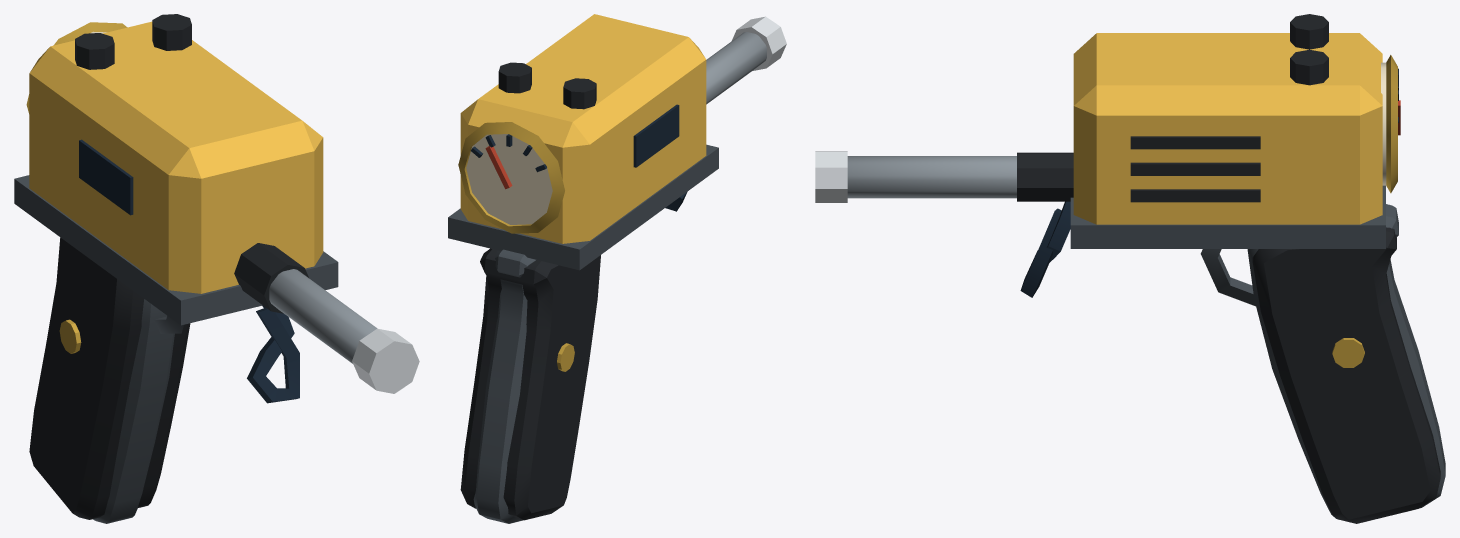
File: Tool_GeigerCounter.fbx
3 views of the same model, side by side, from view 1: azimuth 30°, elevation 25°; view 2: azimuth 150°, elevation 25°; view 3: azimuth 270°, elevation 25° (orthographic). The views are drawn at different scales.
Parts seen in each view (by area): view 1: Geiger; view 2: Geiger; view 3: Geiger.
Part boxes in pixels (<box>): Geiger: <box>14,14,419,523</box>; Geiger: <box>448,14,786,523</box>; Geiger: <box>815,14,1445,523</box>.
Size of the model in its own units: 0.54 by 1.62 by 1.94.
